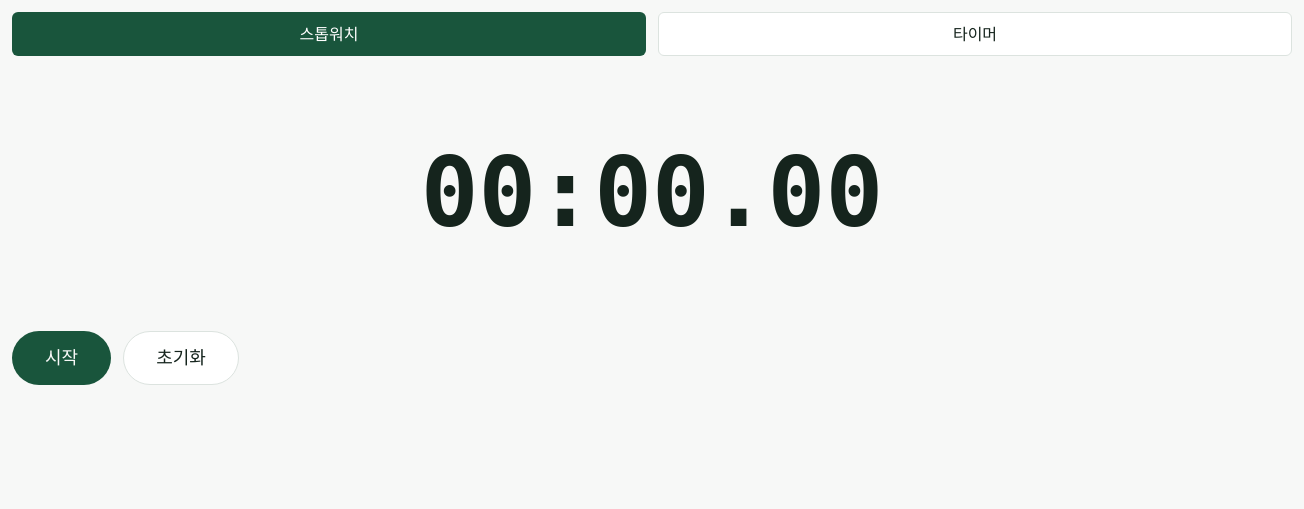
Scenario: conditionally rendered tool controls › labels timer duration inputs through ToolField
Click the button "타이머": click(975, 34) top-left (658, 12), bottom-right (1292, 56)
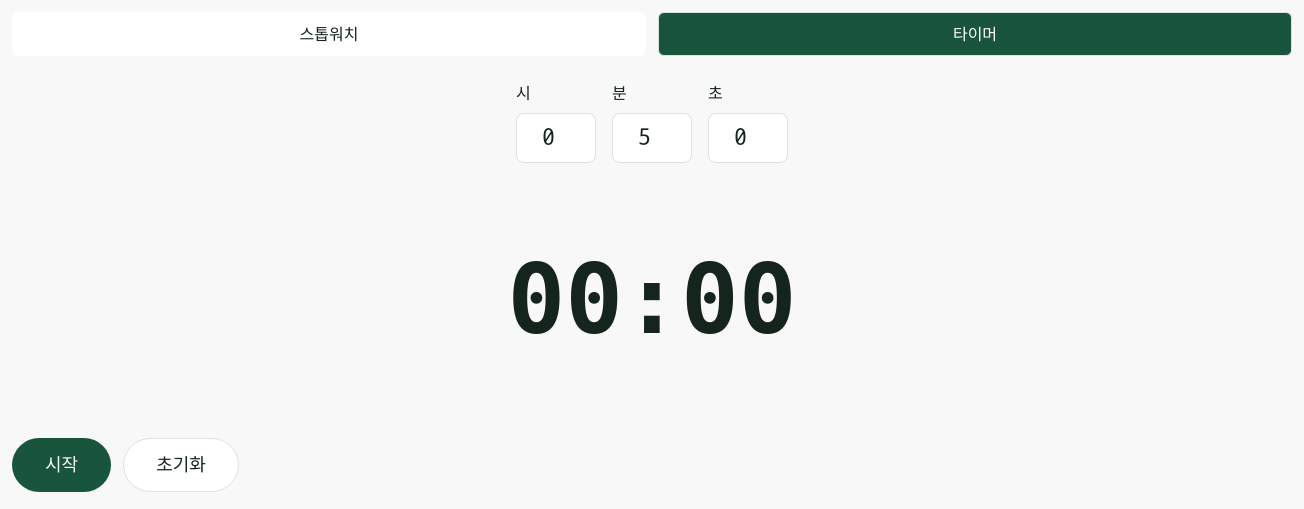
Check: the element labelled "시" is shown, box top-left (516, 80), bottom-right (596, 163)
Check: the element labelled "분" is shown, box top-left (612, 80), bottom-right (692, 163)
Check: the element labelled "초" is shown, box top-left (708, 80), bottom-right (788, 163)
